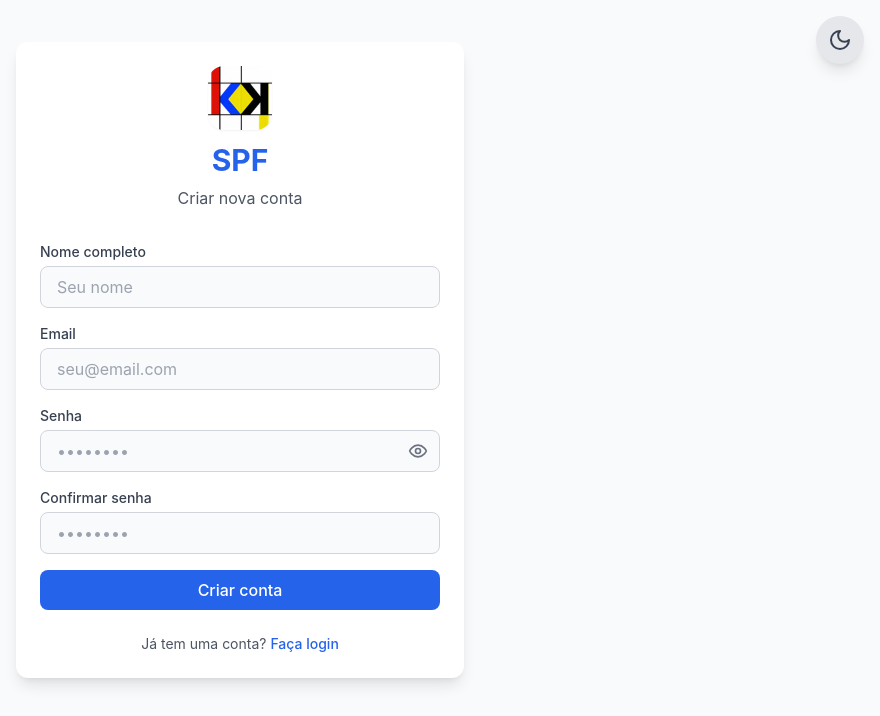
Test: Tela de registro › acusa senhas que não coincidem
Type "Bruno Teste" into the field with placeholder "Seu nome" at (240, 287), box [40,266,440,308]
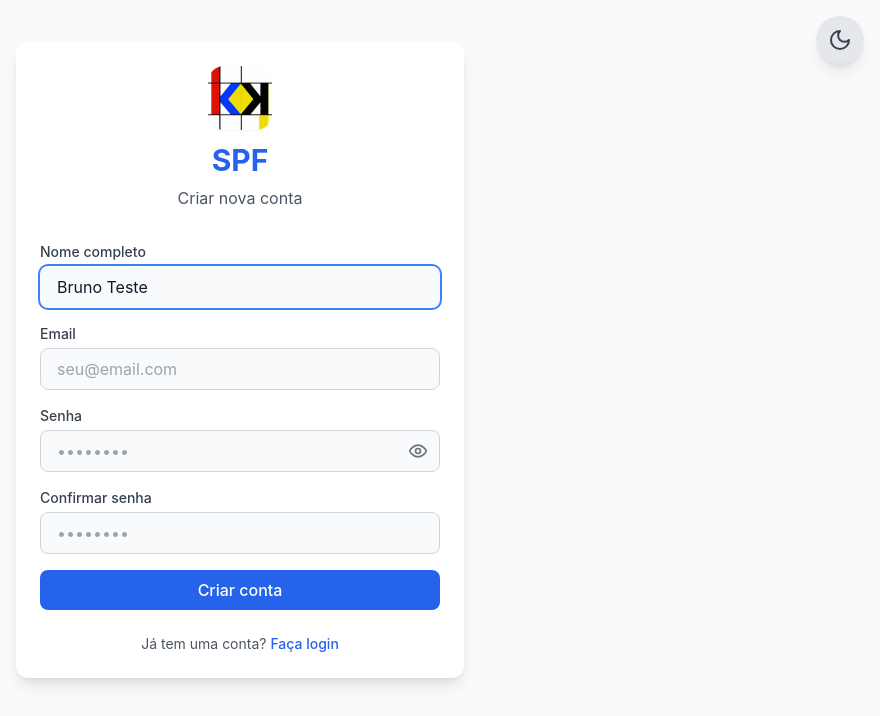
Type "bruno.teste@example.com" into the field with placeholder "seu@email.com" at (240, 369), box [40,348,440,390]
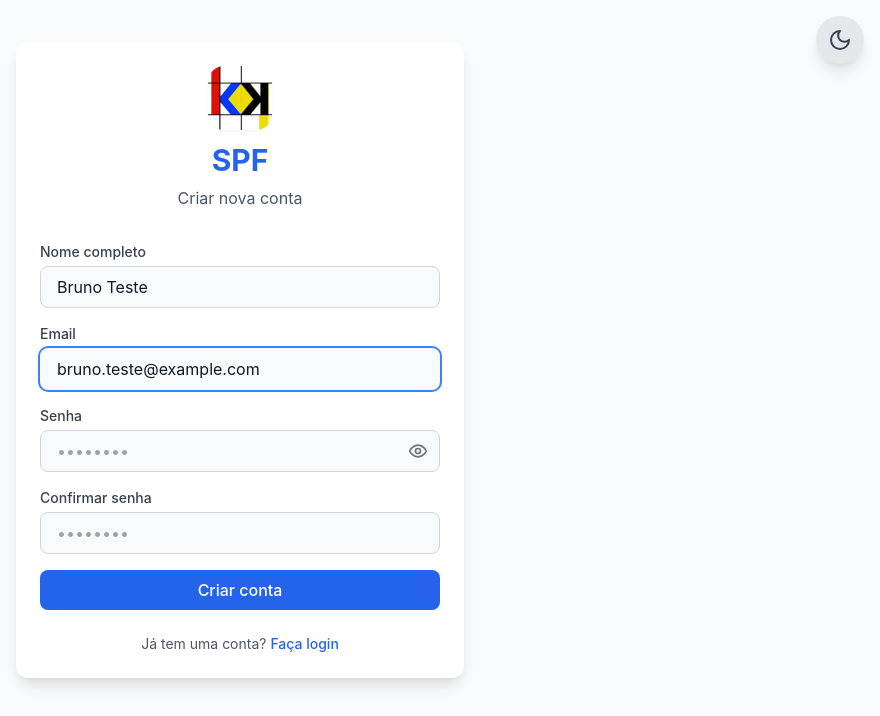
Type "senha123" into the 1st password field with placeholder "••••••••" at (240, 451), box [40,430,440,472]
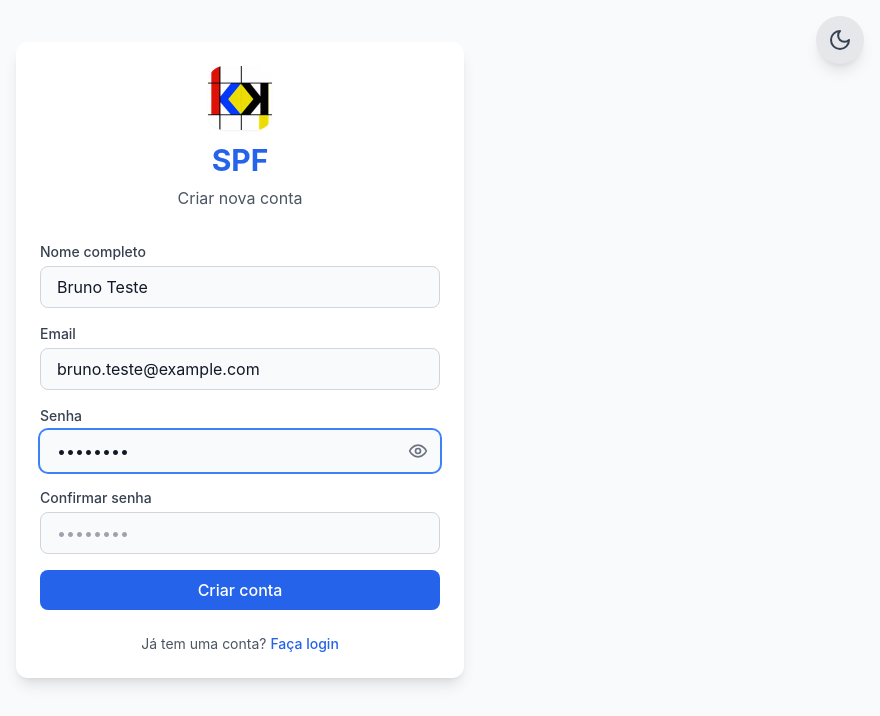
Type "senhaDiferente" into the password field with placeholder "••••••••" at (240, 533), box [40,512,440,554]
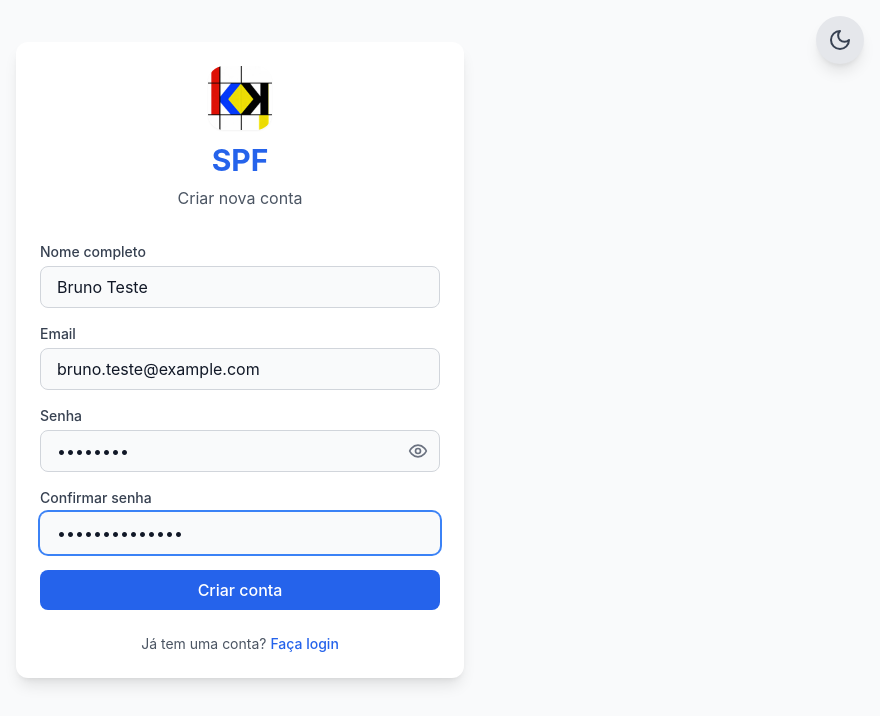
Click the submit button at (240, 590), box [40,570,440,610]
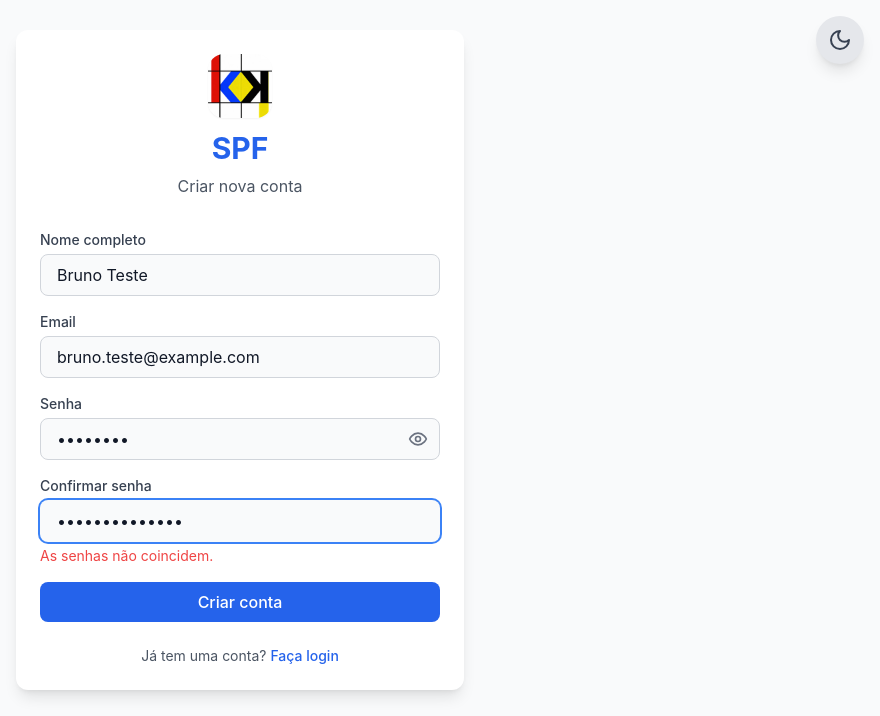
Expected: the text "As senhas não coincidem." is shown, [40,547,213,564]
